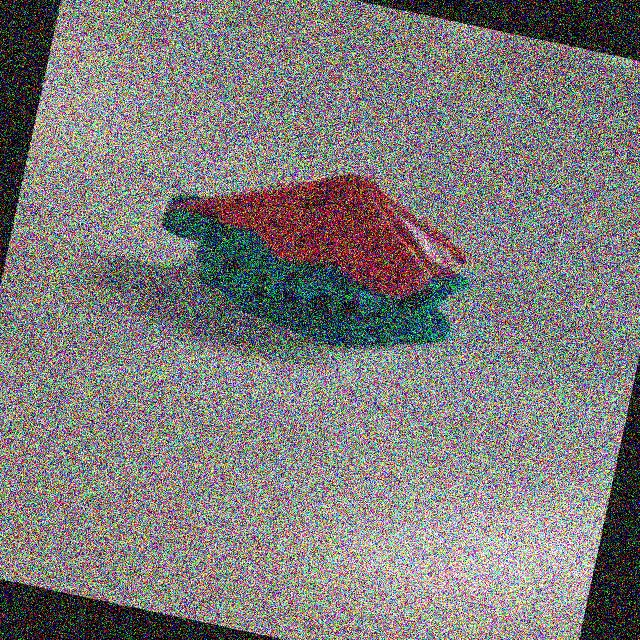House: (131, 125, 512, 385)
